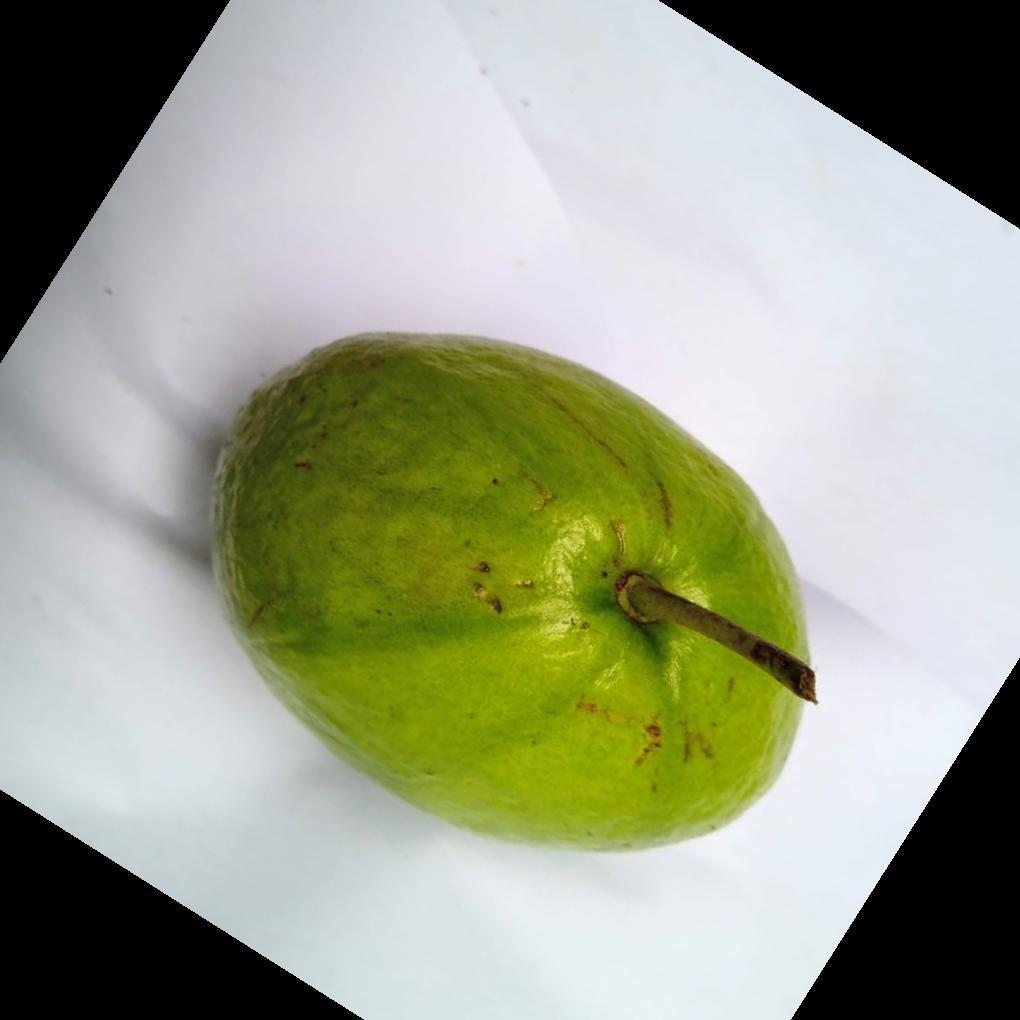FreshGuava: (209, 333, 818, 856)
